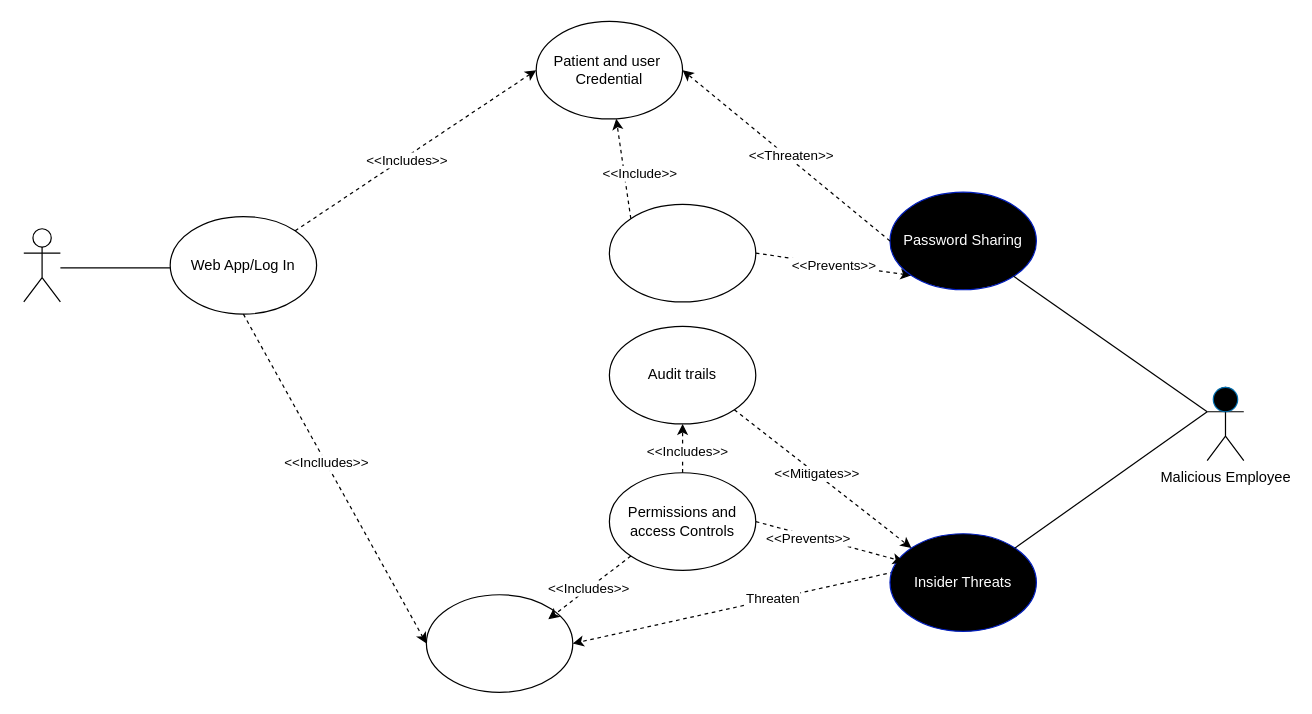
The diagram is 1312 pixels wide and 714 high, and some of its shapes have lost their labels. Each missing label, with the centre of its shape:
"Access Patient Data/Care" goes at (499,643).
"Doctor" goes at (41,265).
"Mulit-Factor Authorization" goes at (682,252).
